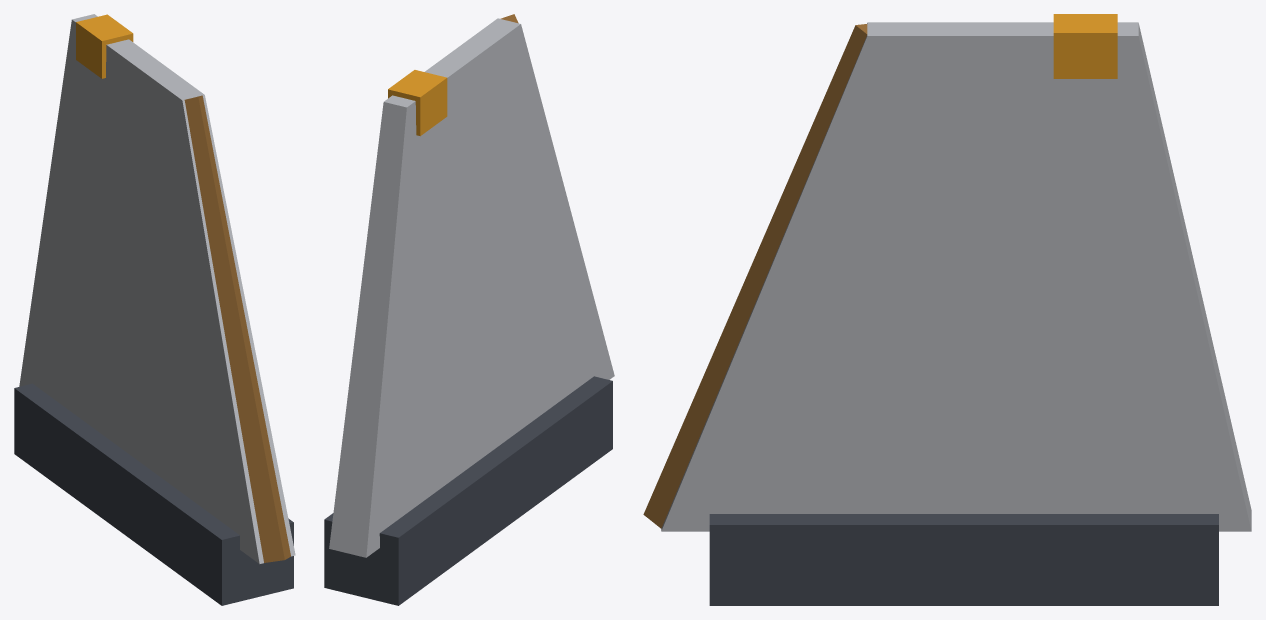
File: ship_tail_fin.obj
3 views of the same model, side by side, from view 1: azimuth 30°, elevation 25°; view 2: azimuth 150°, elevation 25°; view 3: azimuth 270°, elevation 25° (orthographic). The views are drawn at different scales.
Parts seen in each view (by area): view 1: skin, root, leading_edge, beacon; view 2: skin, root, beacon; view 3: skin, root, leading_edge, beacon.
Boxes of the visible parts, x1=… form: skin: x1=19, y1=14, x2=295, y2=563; root: x1=14, y1=383, x2=293, y2=605; leading_edge: x1=184, y1=95, x2=290, y2=562; beacon: x1=76, y1=14, x2=133, y2=78; skin: x1=329, y1=18, x2=614, y2=557; root: x1=324, y1=376, x2=612, y2=605; beacon: x1=388, y1=70, x2=447, y2=136; skin: x1=661, y1=22, x2=1251, y2=531; root: x1=709, y1=514, x2=1218, y2=605; leading_edge: x1=643, y1=24, x2=867, y2=528; beacon: x1=1053, y1=14, x2=1117, y2=78.
Size of the model in its own units: 0.32 by 1.94 by 1.91.
